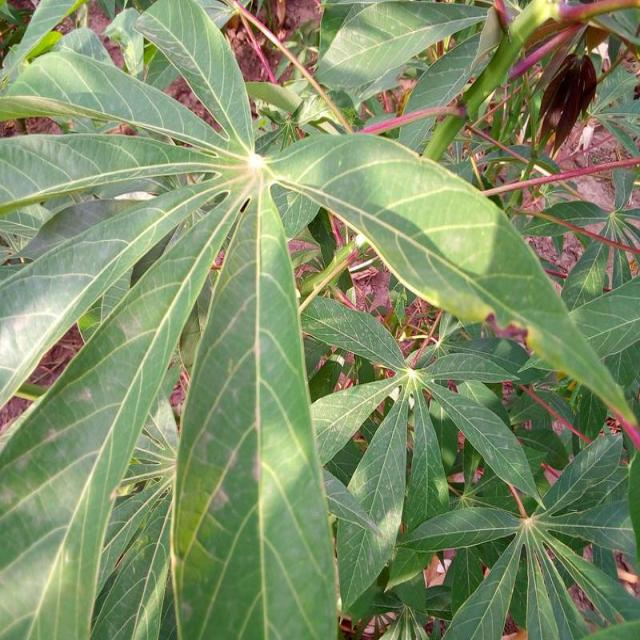cassava leaf: (1, 0, 637, 638), (169, 172, 339, 638)
